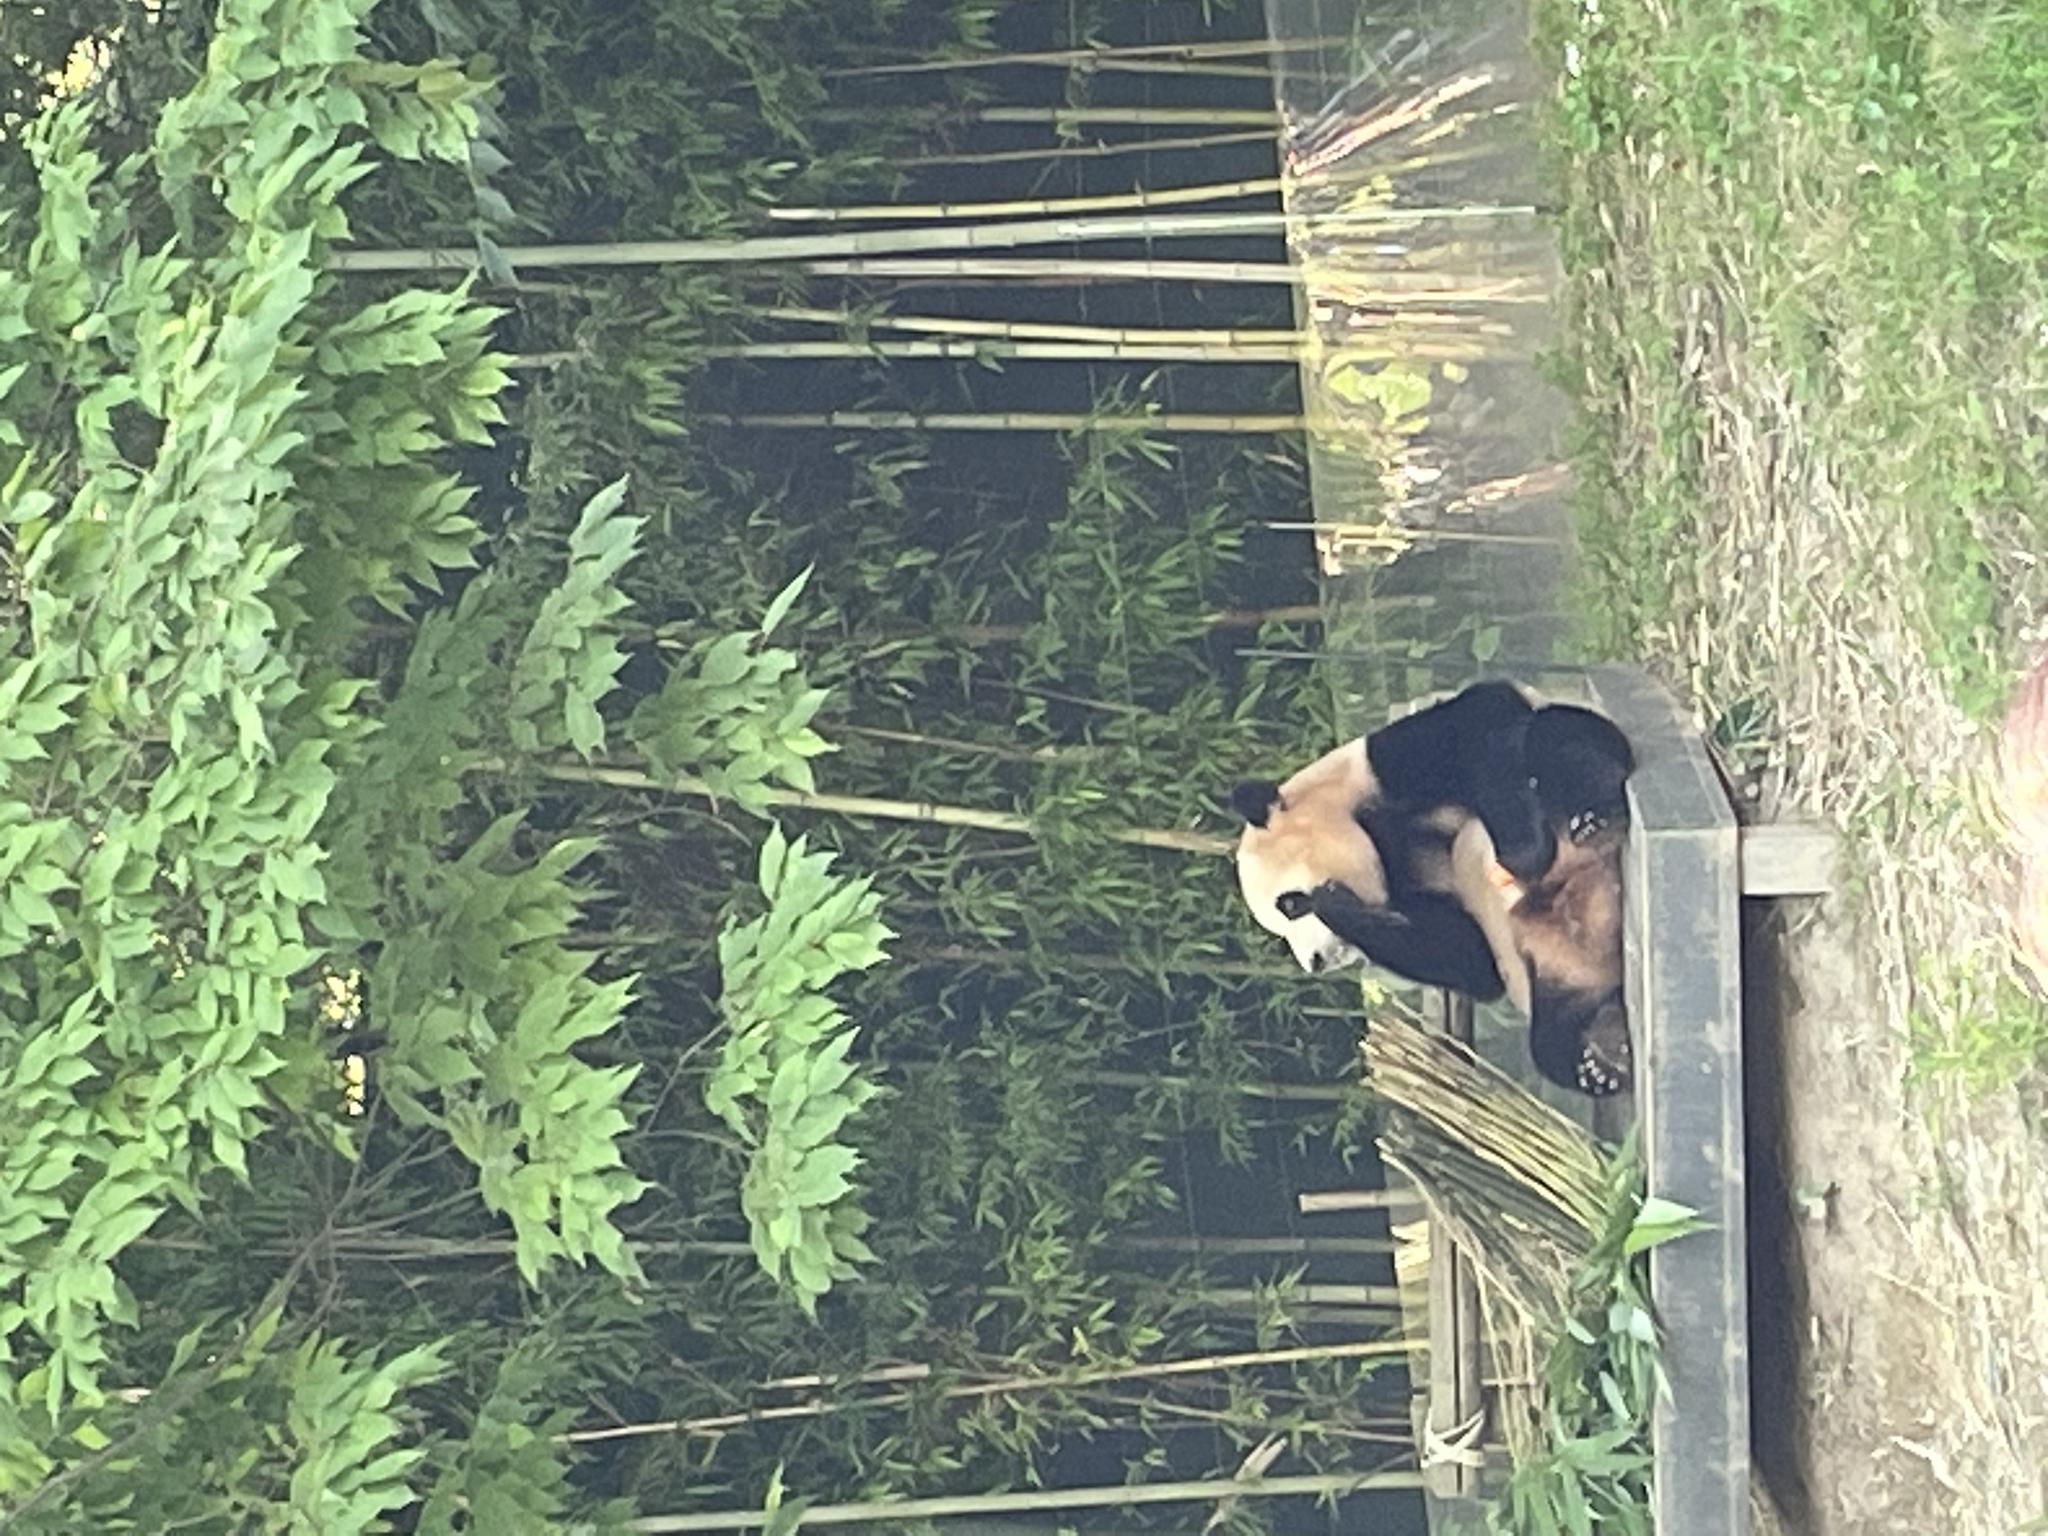panda: (435, 1225, 858, 1536)
